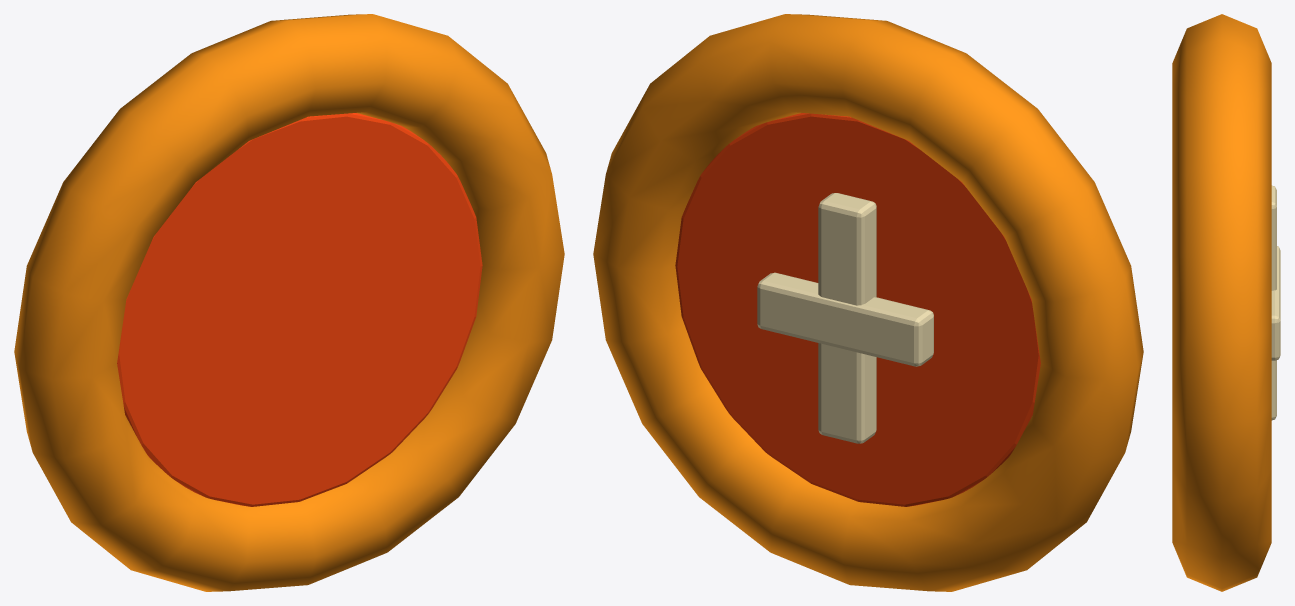
Rendered from coin.obj.
The picture shows the model from 3 angles, left to right: view 1: azimuth 30°, elevation 25°; view 2: azimuth 150°, elevation 25°; view 3: azimuth 270°, elevation 25°; orthographic projection. The views are drawn at different scales.
Visible parts, largest first — view 1: coin_rim_M_gold, coin_face_M_orange; view 2: coin_rim_M_gold, coin_face_M_orange, coin_mark_v_M_cream, coin_mark_h_M_cream; view 3: coin_rim_M_gold, coin_mark_v_M_cream, coin_mark_h_M_cream.
Boxes of the visible parts, box(x1,y1,x2,y2) form: coin_rim_M_gold: box(14, 14, 564, 591); coin_face_M_orange: box(117, 113, 482, 506); coin_rim_M_gold: box(593, 14, 1143, 591); coin_face_M_orange: box(675, 113, 1040, 506); coin_mark_v_M_cream: box(818, 193, 876, 443); coin_mark_h_M_cream: box(757, 272, 933, 366); coin_rim_M_gold: box(1172, 14, 1271, 591); coin_mark_v_M_cream: box(1271, 185, 1276, 420); coin_mark_h_M_cream: box(1271, 246, 1280, 360).
Bounding box in the file's own units: 0.82 × 0.82 × 0.1525.
